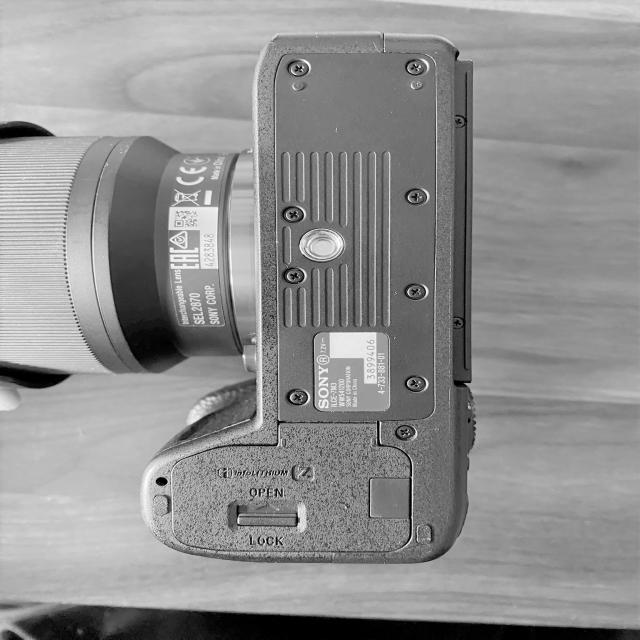PhillipsScrewHead: (404, 282, 428, 302), (403, 374, 427, 394), (283, 266, 306, 285), (282, 206, 306, 224), (405, 188, 428, 206), (394, 424, 417, 442), (287, 389, 308, 406), (288, 61, 310, 77), (405, 61, 427, 76), (450, 316, 466, 331), (453, 114, 465, 129)
